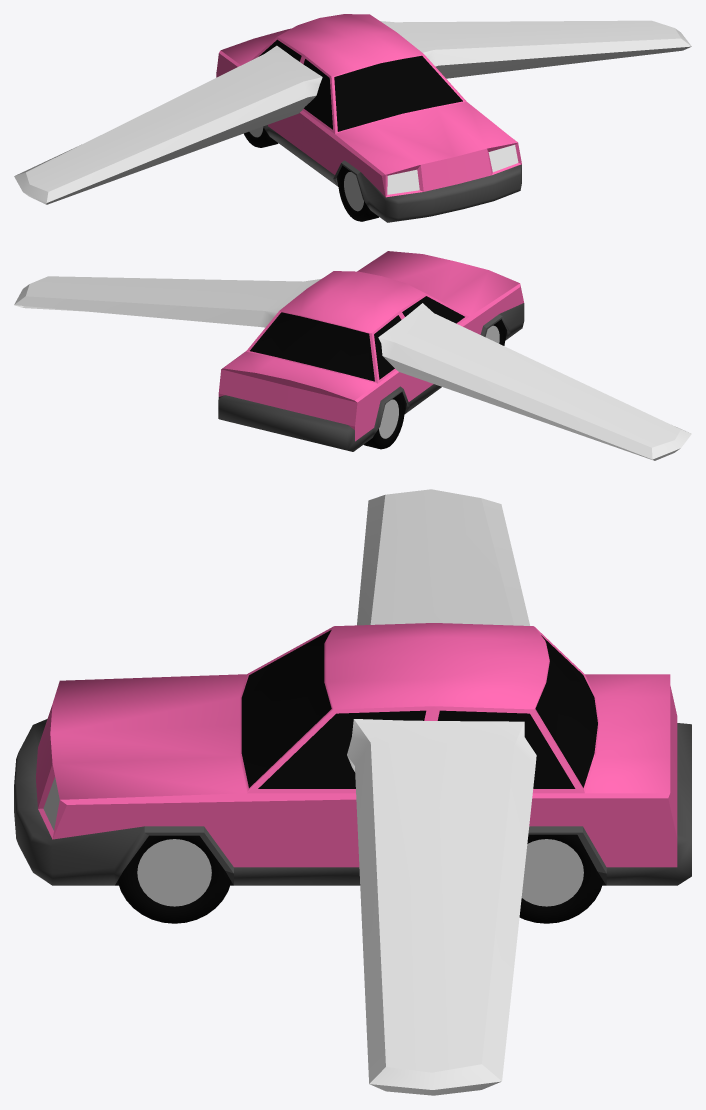
Rendered from Car_with_wings.fbx.
3 views of the same model, one above another, from view 1: azimuth 30°, elevation 25°; view 2: azimuth 150°, elevation 25°; view 3: azimuth 270°, elevation 25° (orthographic). The views are drawn at different scales.
Parts seen in each view (by area): view 1: Car, wings; view 2: Car, wings; view 3: Car, wings.
Boxes of the visible parts, x1,y1,x2,y2 form: Car: [216, 14, 521, 222]; wings: [14, 20, 691, 204]; Car: [218, 251, 524, 451]; wings: [14, 276, 691, 460]; Car: [14, 623, 691, 923]; wings: [347, 489, 536, 1095].
Bounding box in the file's own units: 965 × 159 × 466.
